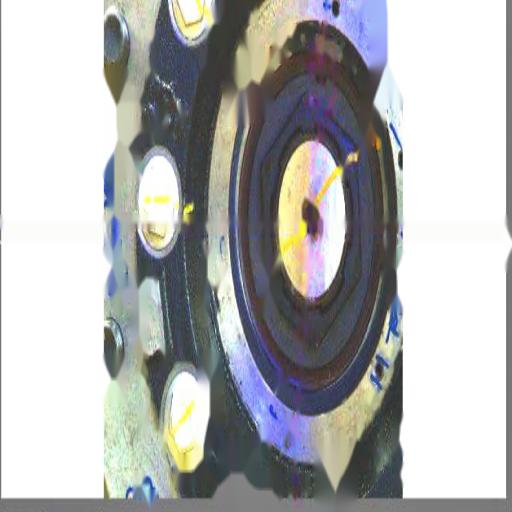center: (302, 204, 320, 242)
notch: (311, 70, 334, 97)
